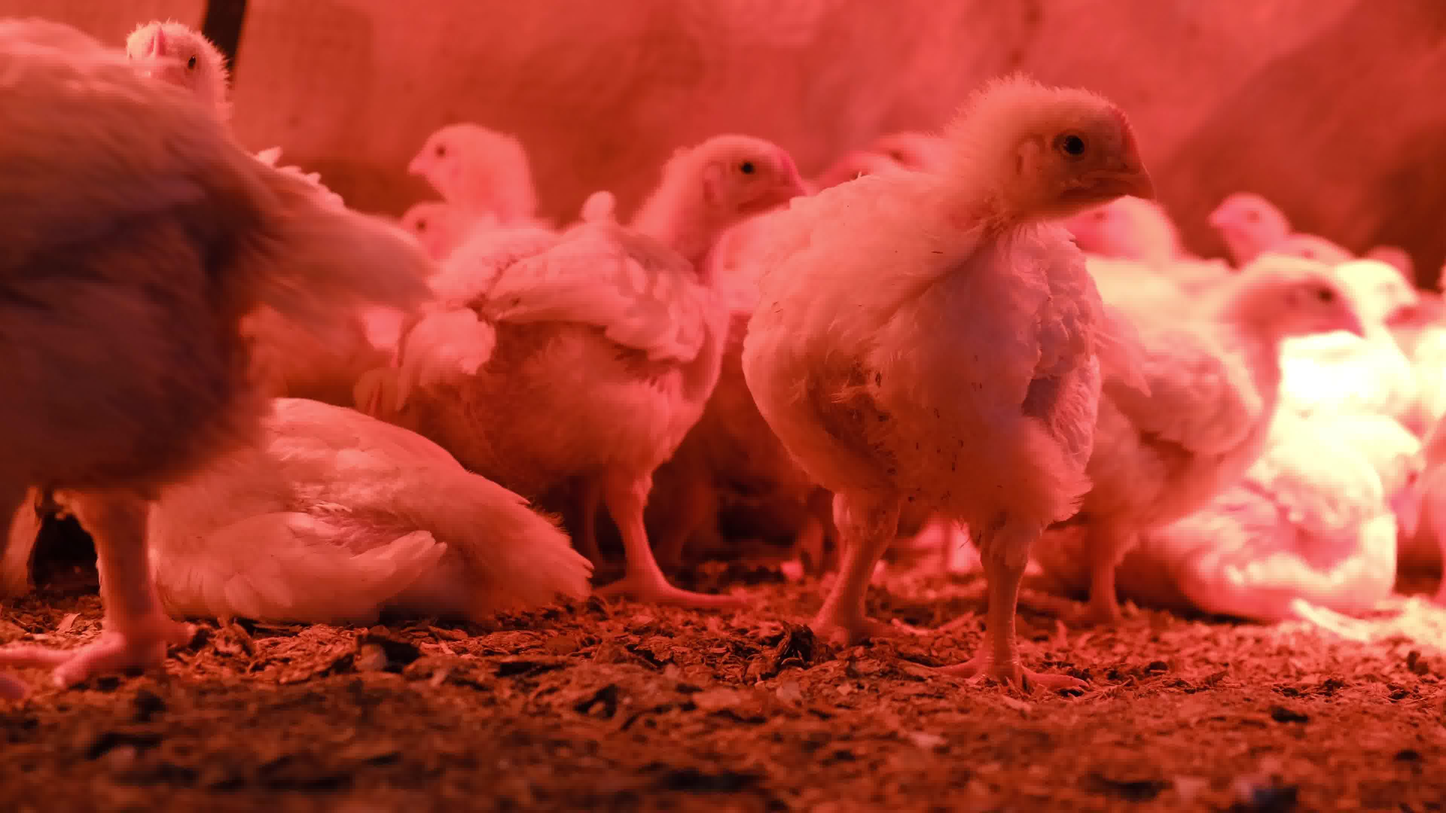AbNormal: (120, 356, 618, 649), (1101, 405, 1446, 627)
Normal: (667, 68, 1147, 709), (0, 8, 303, 693), (463, 137, 832, 615), (1083, 222, 1359, 606), (373, 73, 612, 275), (1312, 243, 1446, 448), (1197, 143, 1333, 273)
